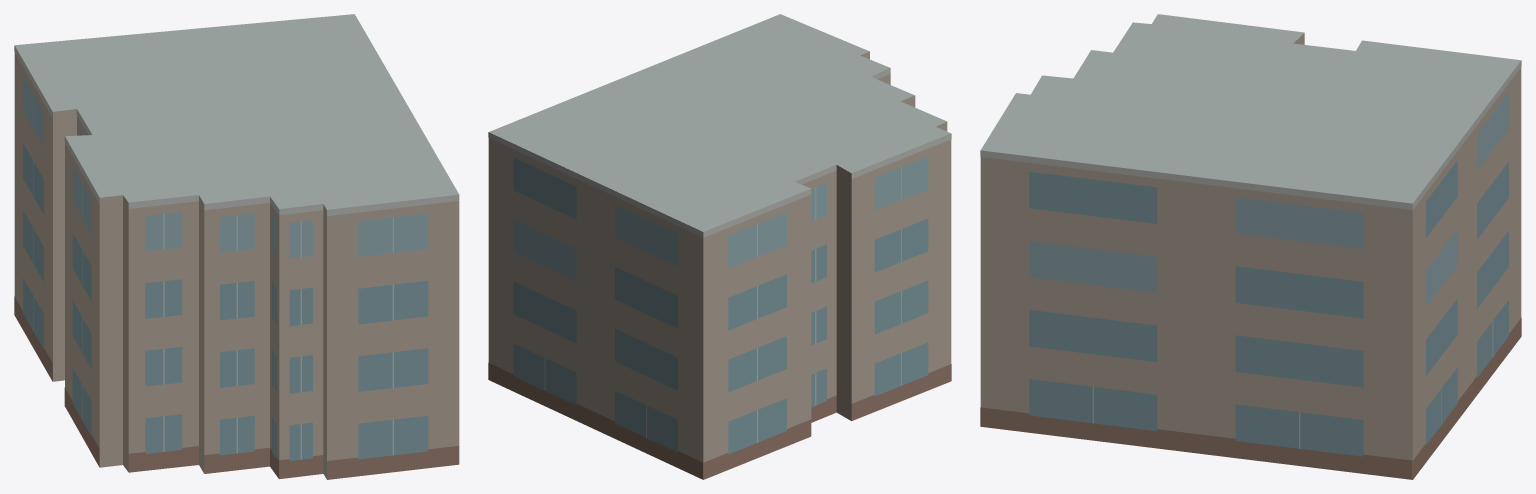
File: survey-upis-32575489.glb
3 views of the same model, side by side, from view 1: azimuth 30°, elevation 25°; view 2: azimuth 150°, elevation 25°; view 3: azimuth 270°, elevation 25° (orthographic). The views are drawn at different scales.
Visible parts, largest first — view 1: survey-upis-32575489.tmp; view 2: survey-upis-32575489.tmp; view 3: survey-upis-32575489.tmp.
Boxes of the visible parts, x1,y1,x2,y2 form: survey-upis-32575489.tmp: (14,14,459,479); survey-upis-32575489.tmp: (488,14,951,479); survey-upis-32575489.tmp: (980,14,1521,479).
Bounding box in the file's own units: 15.46 × 10.5 × 18.65.
